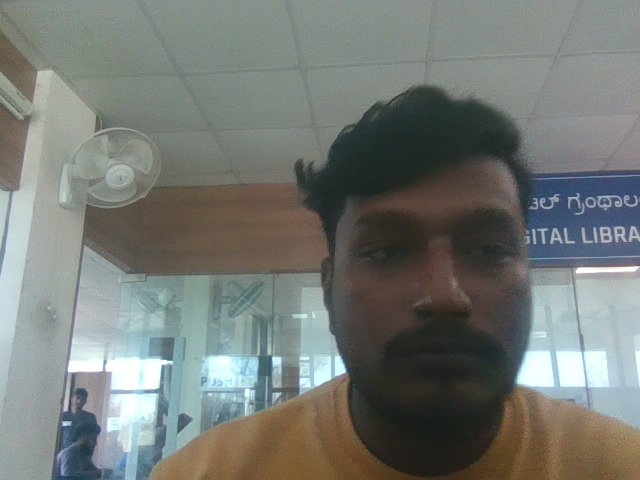real: (295, 67, 563, 447)
